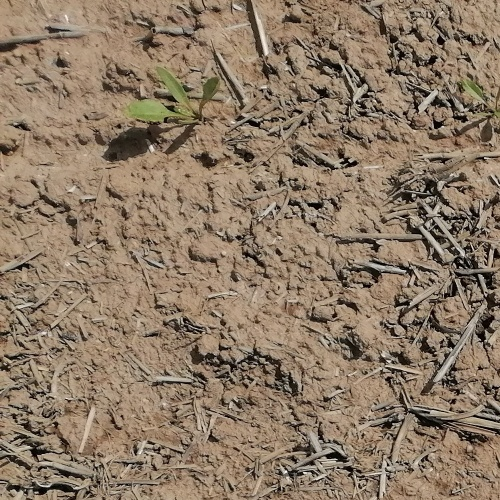beet: (124, 64, 220, 126), (462, 79, 500, 128)
